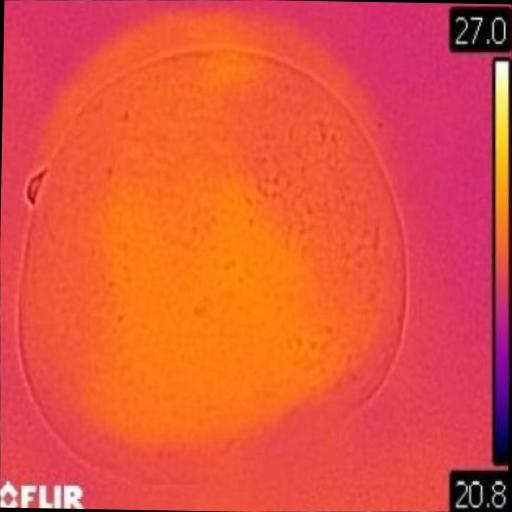alphanso: (18, 46, 405, 477)
